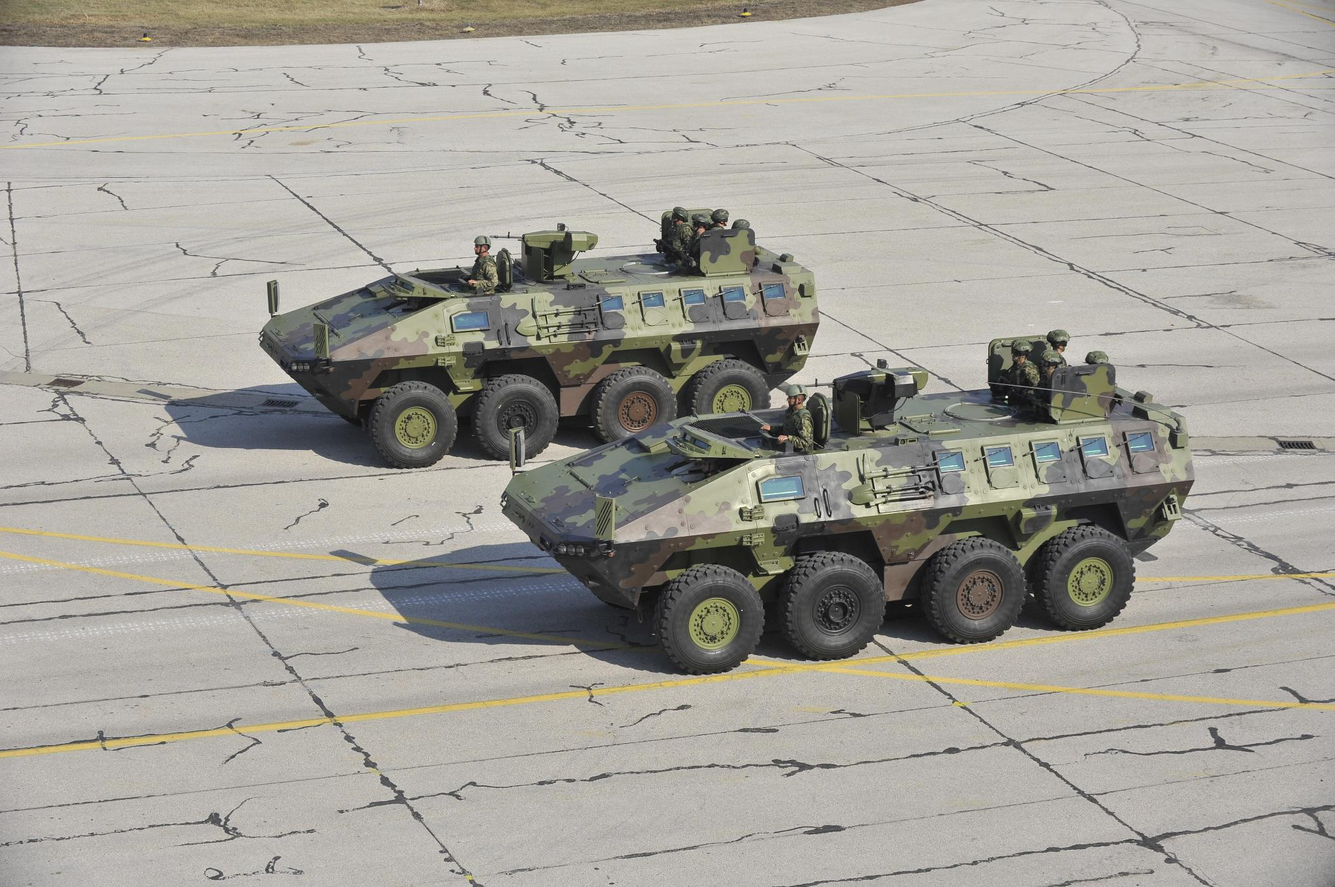armored_car: (497, 351, 1200, 673), (260, 208, 826, 470)
